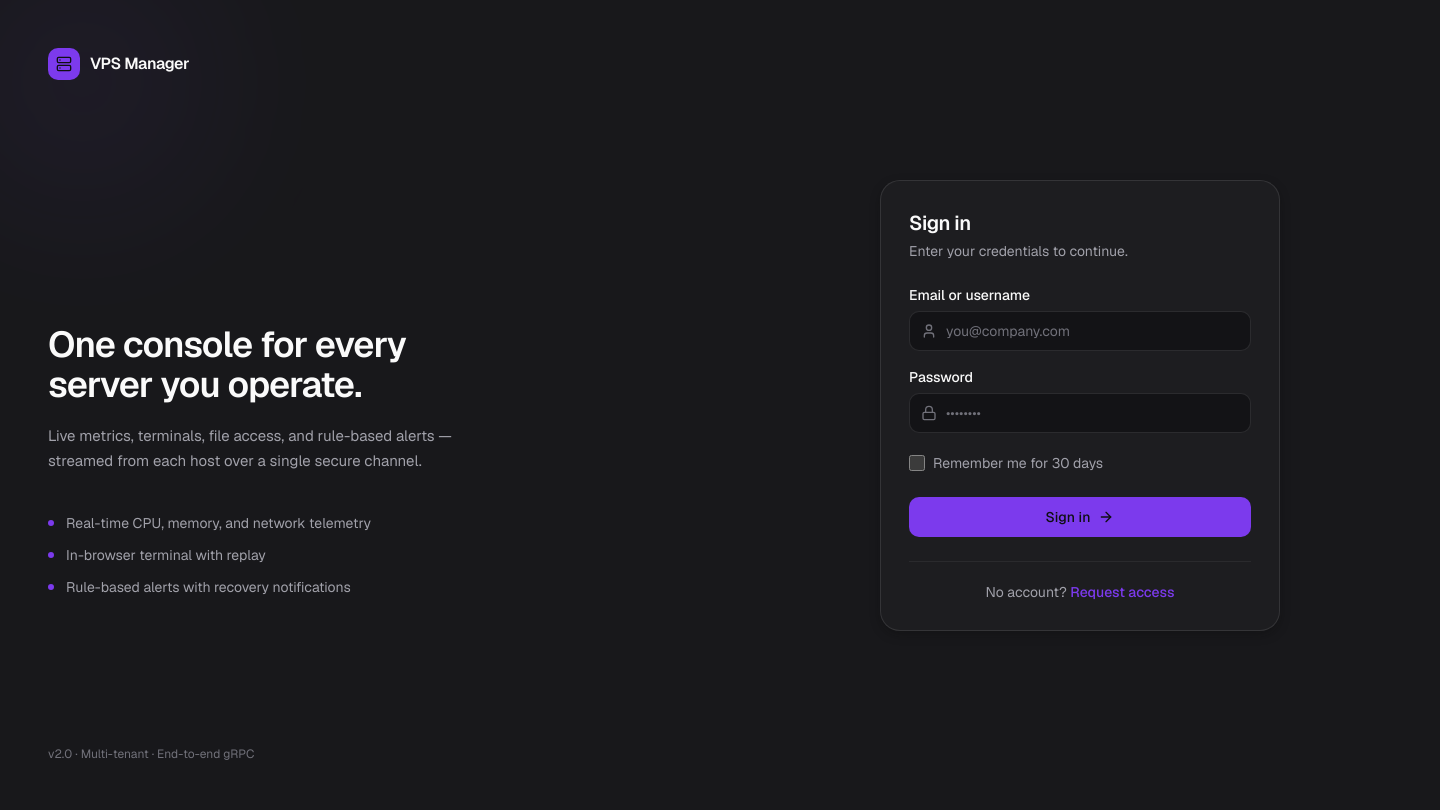
Test case: Login page › types into email/identifier and password, then submits and the button becomes disabled
Type "admin@example.com" into the field labelled "Email or username" at (1080, 330), box [909, 310, 1251, 350]
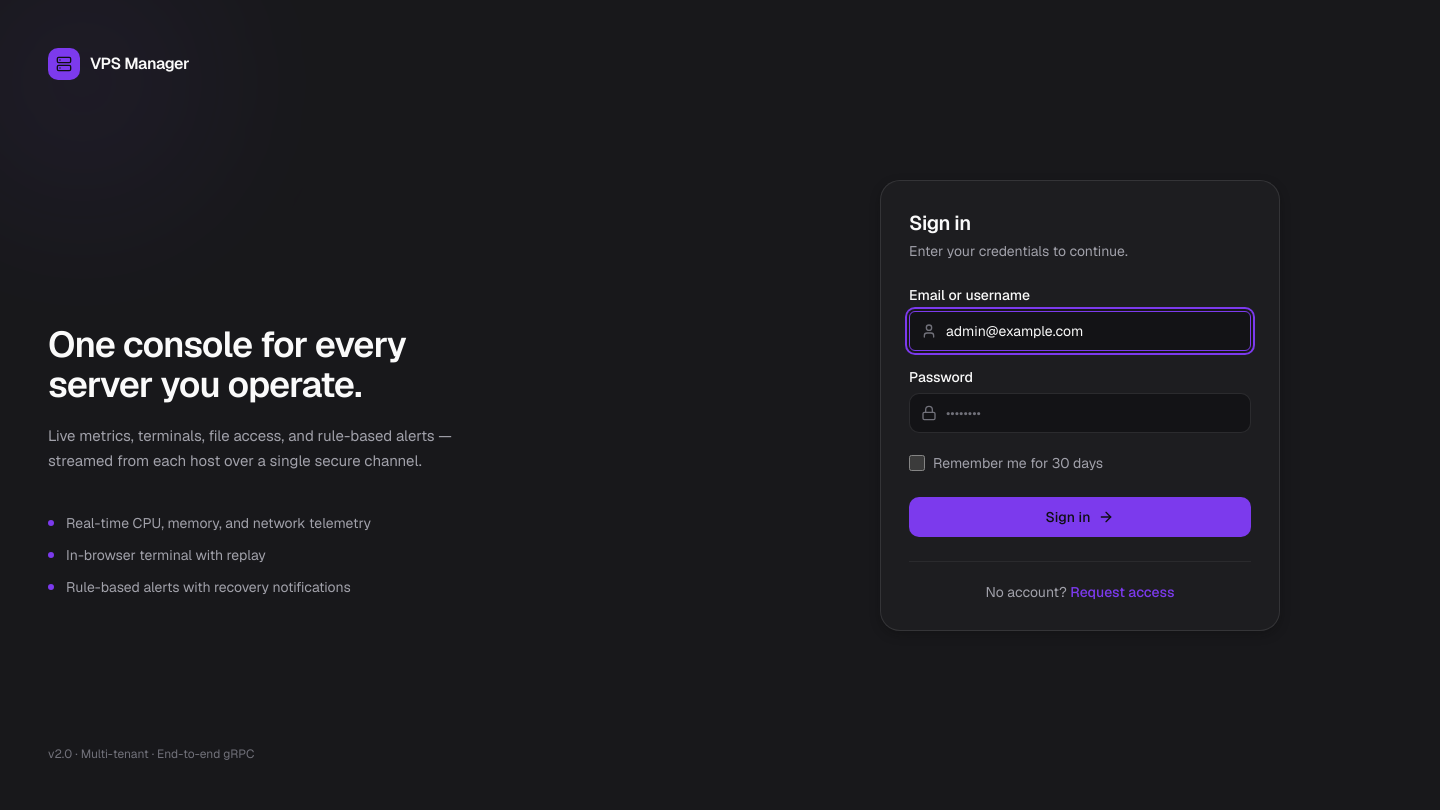
Type "Sup3rSecret!" into the password field labelled "Password" at (1080, 412), box [909, 392, 1251, 432]
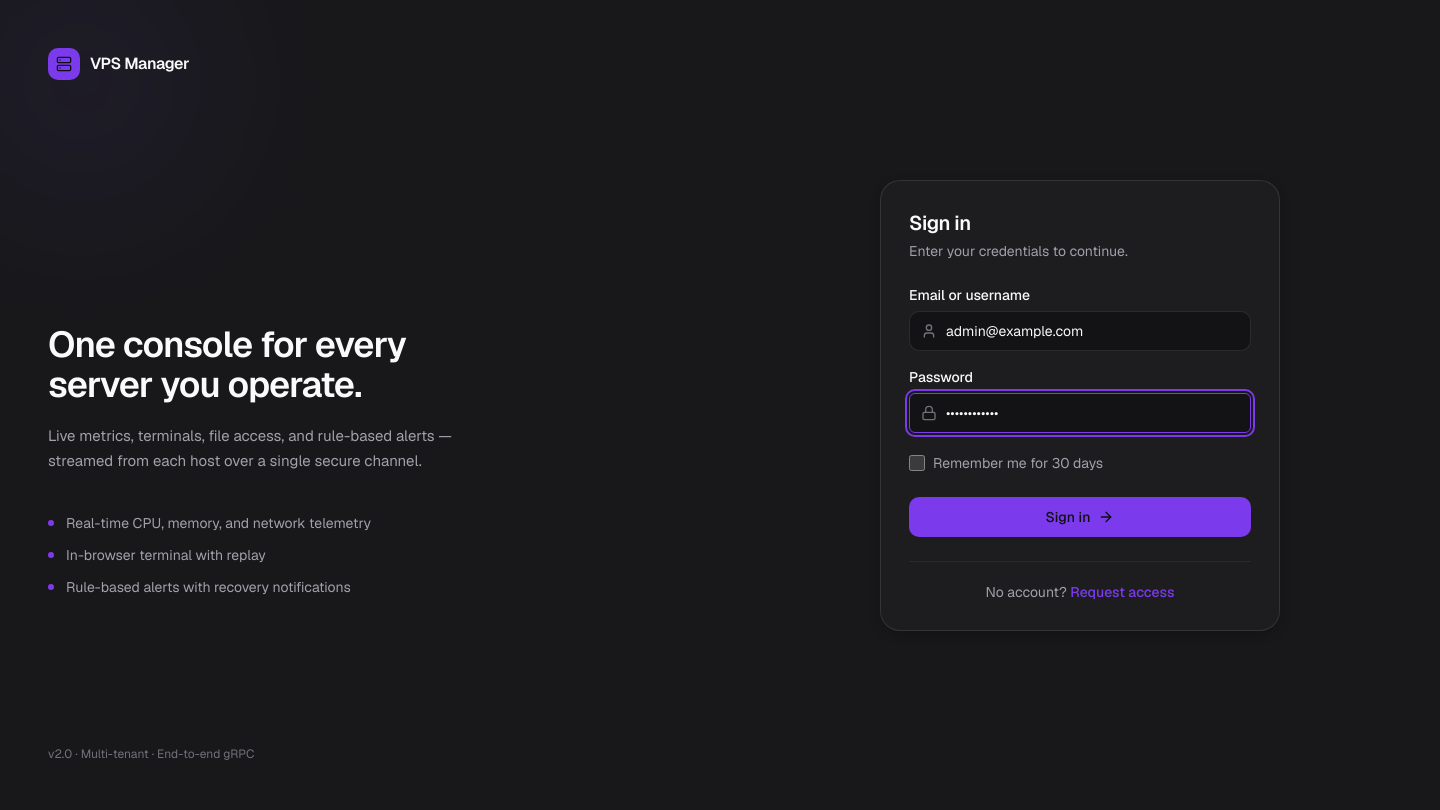
Click the button "Sign in" at (1080, 516), box [909, 496, 1251, 536]
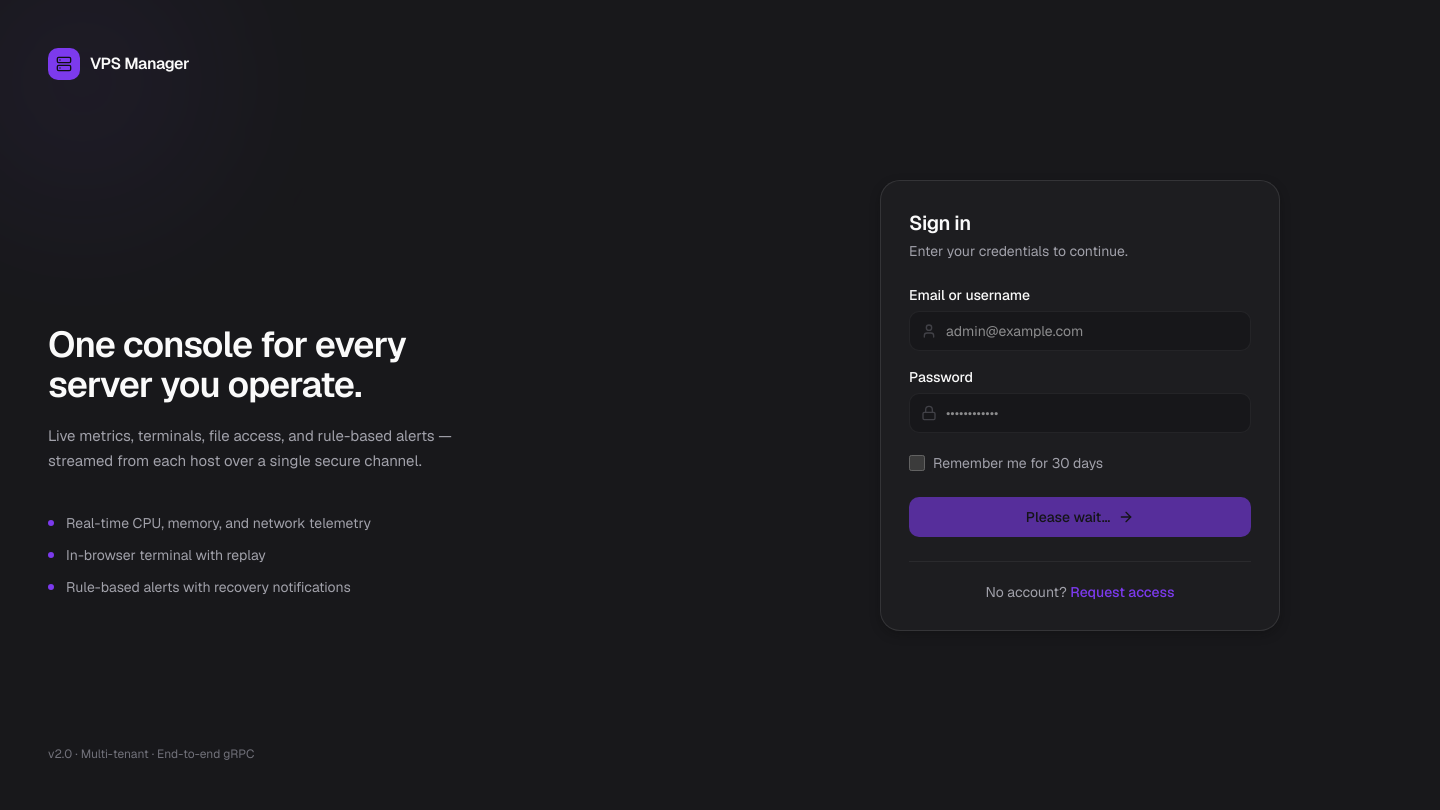
Expected: the button named "sign in" is disabled, [909, 496, 1251, 536]
Expected: the button named "sign in" shows "Please wait", [909, 496, 1251, 536]
